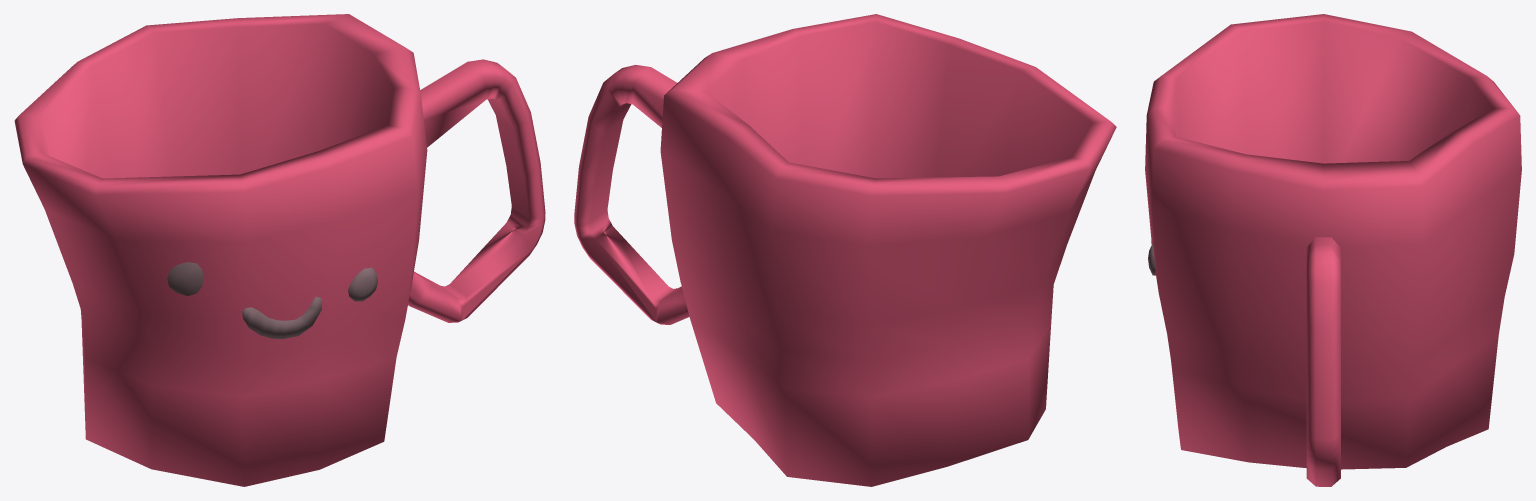
The model's file is props_mug.fbx.
The picture shows the model from 3 angles, left to right: view 1: azimuth 30°, elevation 25°; view 2: azimuth 150°, elevation 25°; view 3: azimuth 270°, elevation 25°; orthographic projection.
Parts seen in each view (by area): view 1: tasse_foncee; view 2: tasse_foncee; view 3: tasse_foncee.
Part boxes in pixels (bbox=[...]): tasse_foncee: bbox=[14, 14, 545, 486]; tasse_foncee: bbox=[574, 14, 1116, 486]; tasse_foncee: bbox=[1145, 14, 1521, 486].
Bounding box in the file's own units: 72.51 × 45.77 × 46.09.
